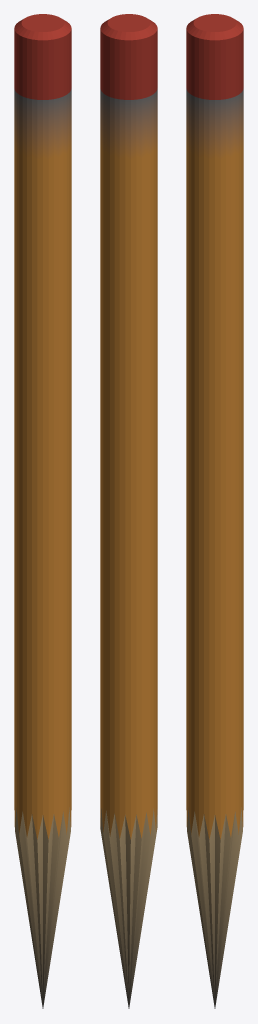
Rendered from pencil.dae.
3 renders of one model, left to right at view 1: azimuth 90°, elevation 25°; view 2: azimuth 150°, elevation 25°; view 3: azimuth 270°, elevation 25°, orthographic.
Parts seen in each view (by area): view 1: Cylinder; view 2: Cylinder; view 3: Cylinder.
Boxes of the visible parts, box(x1,y1,x2,y2) form: Cylinder: box(14, 14, 71, 1008); Cylinder: box(100, 14, 157, 1008); Cylinder: box(186, 14, 243, 1008).
Bounding box in the file's own units: 0.012 × 0.012 × 0.228.
